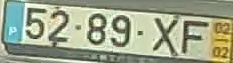2: (46, 8, 71, 43)
5: (24, 6, 47, 40)
8: (85, 11, 107, 46)
9: (108, 13, 131, 48)
F: (180, 18, 210, 55)
X: (150, 15, 178, 54)
